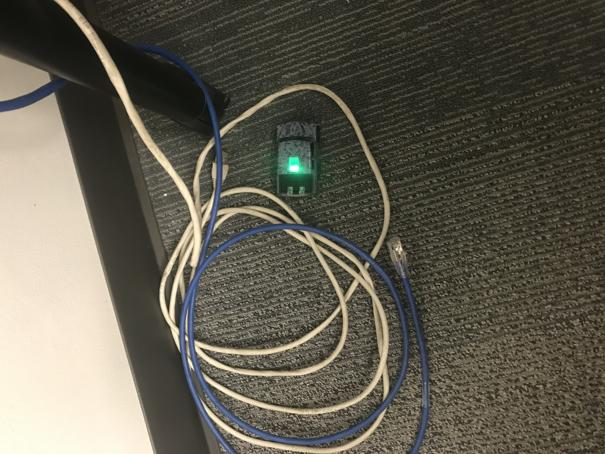MXT: (275, 121, 321, 198)
